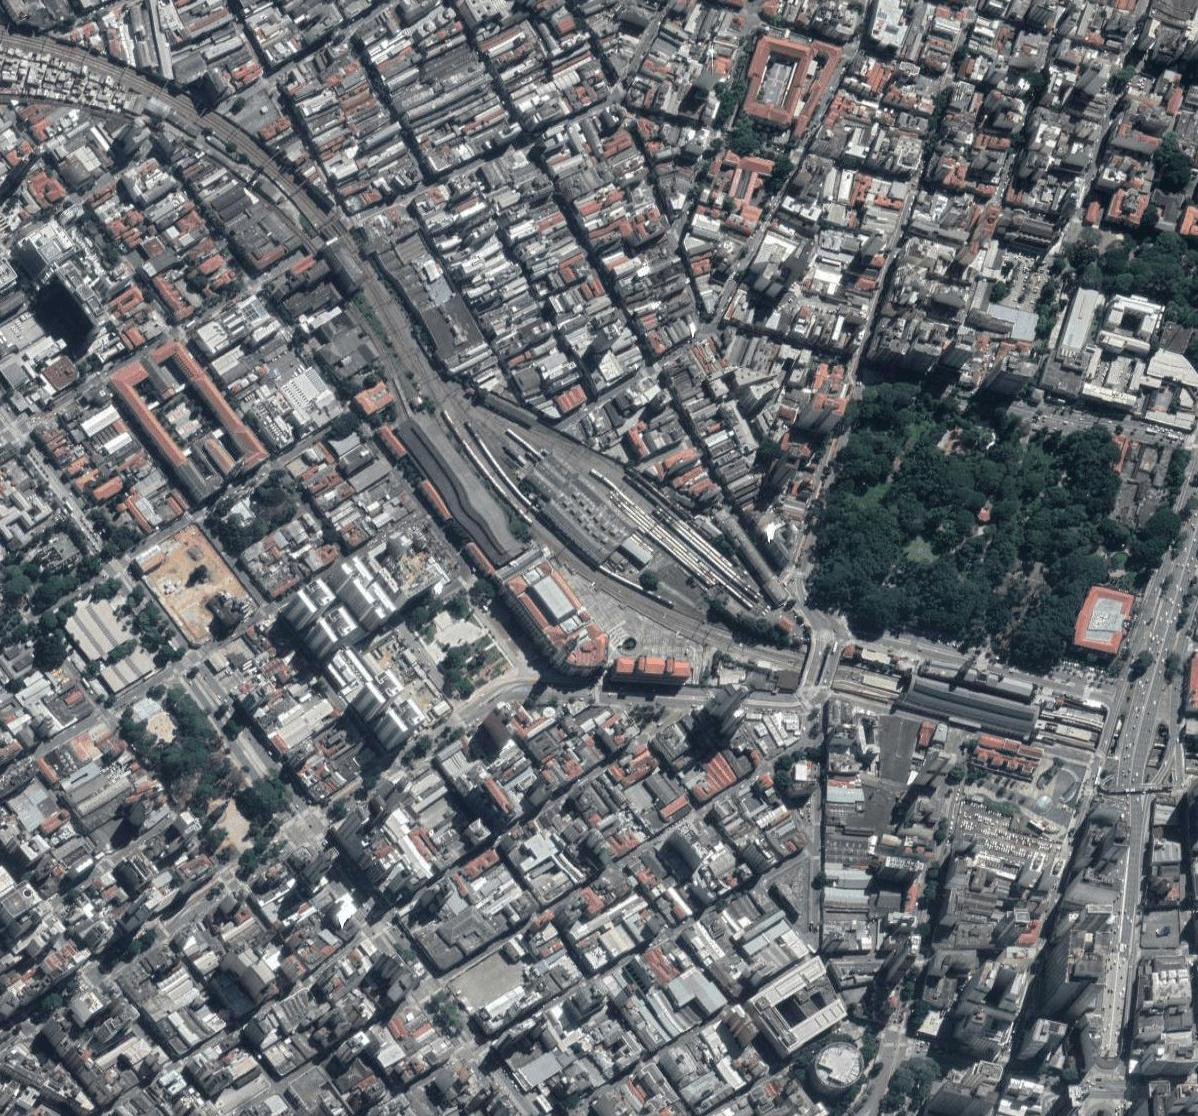train_station: (495, 423, 735, 630)
